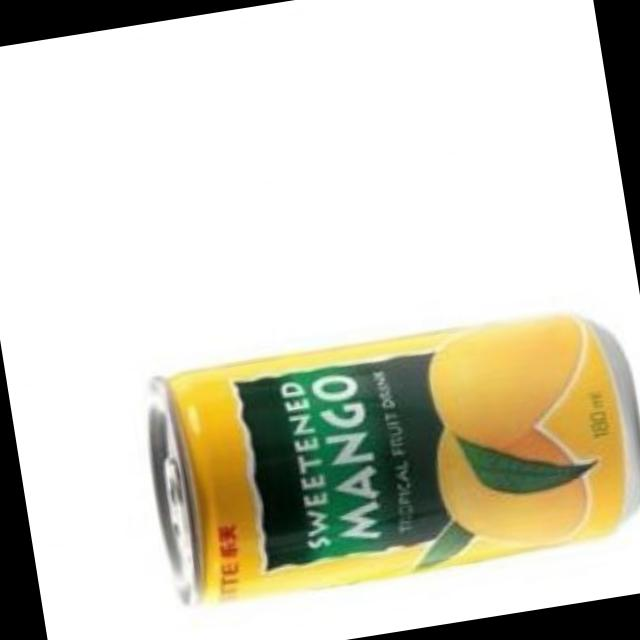metal: (146, 320, 638, 607)
